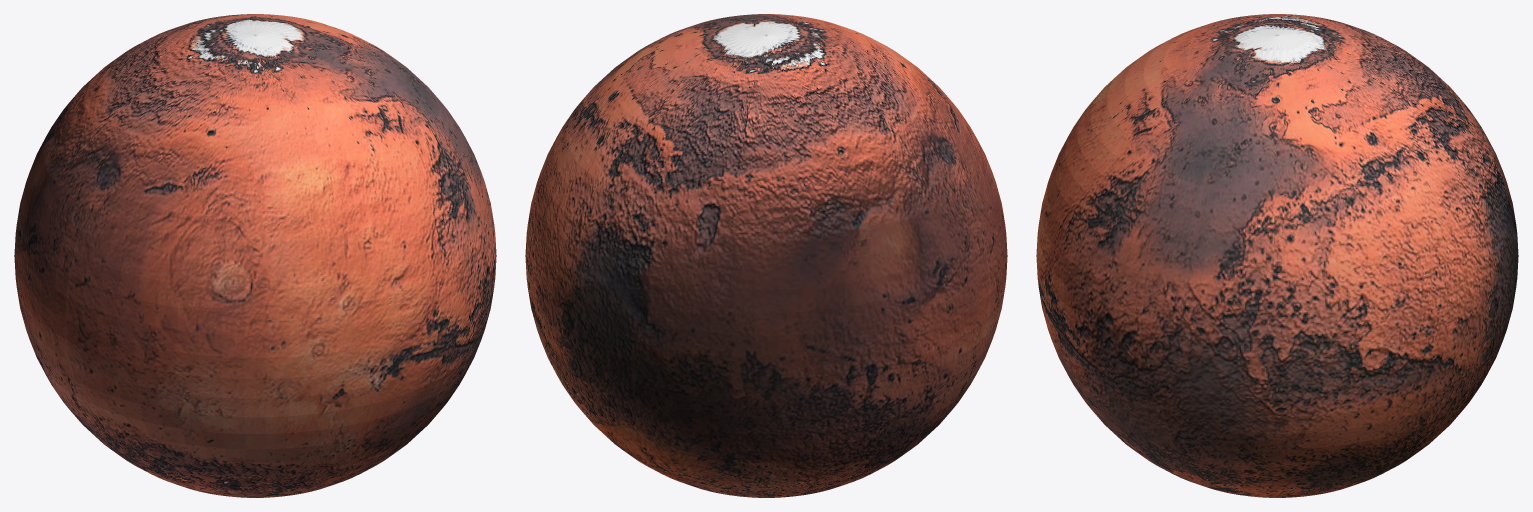
The model's file is marte.obj.
The picture shows the model from 3 angles, left to right: view 1: azimuth 30°, elevation 25°; view 2: azimuth 150°, elevation 25°; view 3: azimuth 270°, elevation 25°; orthographic projection.
Parts seen in each view (by area): view 1: Sphere; view 2: Sphere; view 3: Sphere.
Part boxes in pixels (box(x1,y1,x2,y2)): Sphere: box(14, 14, 496, 497); Sphere: box(525, 14, 1007, 497); Sphere: box(1036, 14, 1518, 497).
Bounding box in the file's own units: 1.97 × 2 × 1.98.
1 material, 1 textured.
